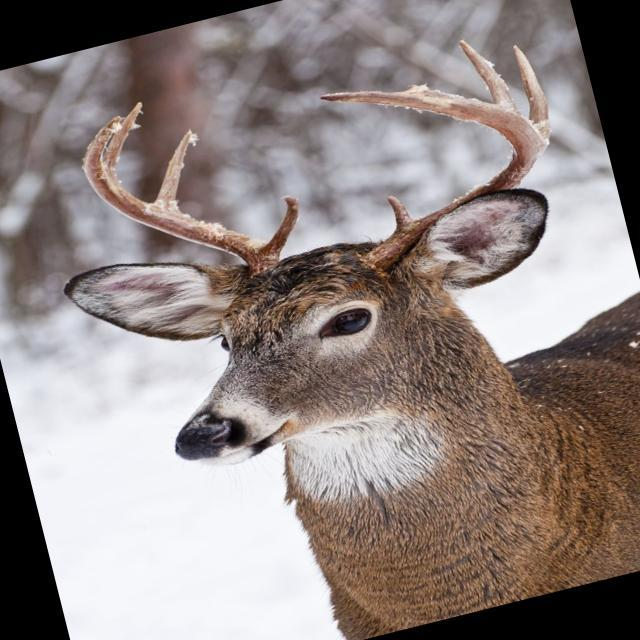L-F: (317, 84, 545, 273)
L-G1: (385, 195, 415, 233)
L-G2: (513, 45, 553, 149)
L-G3: (458, 39, 520, 112)
R-F: (82, 115, 281, 276)
R-G1: (264, 194, 300, 257)
R-G2: (153, 128, 192, 211)
R-G3: (102, 101, 142, 186)
